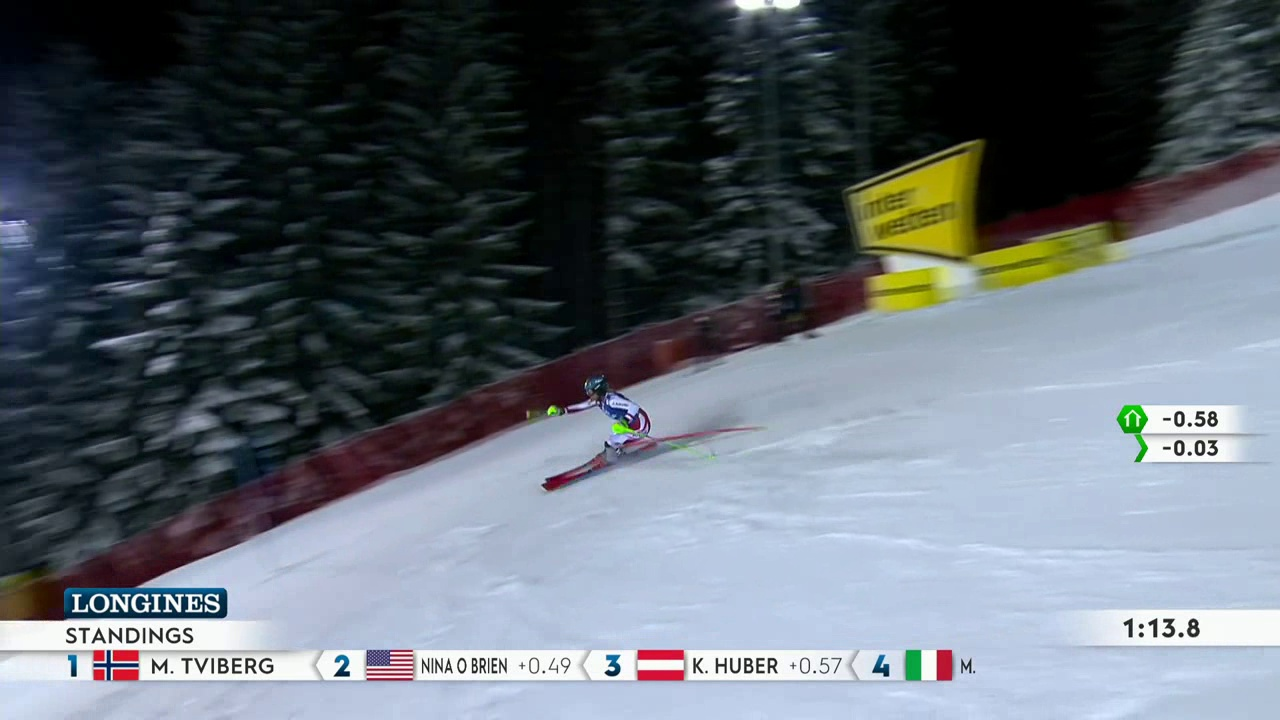interwetten: (856, 166, 968, 250)
longines: (66, 585, 226, 620)
